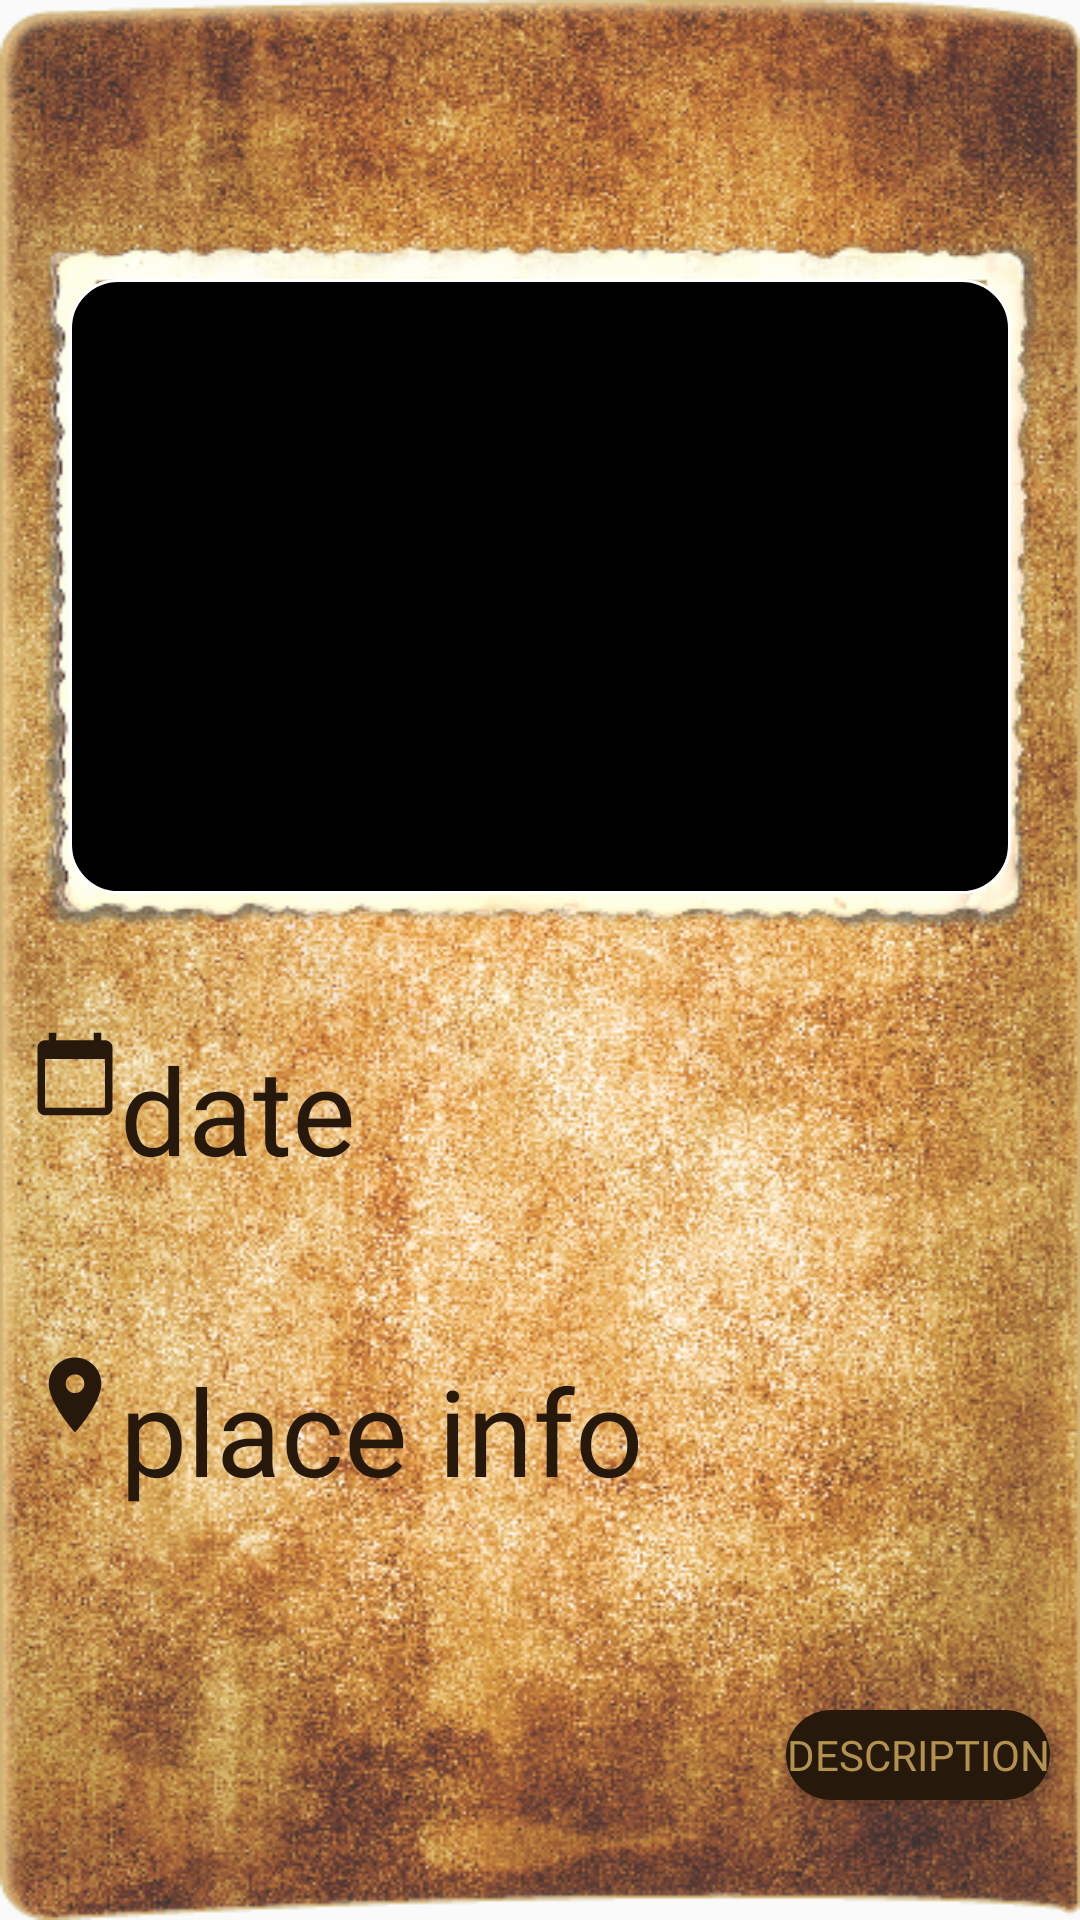

Screen size 1080×1920. Icon name, then its center in pixels as [x,y]:
calendar: [75,1074]
